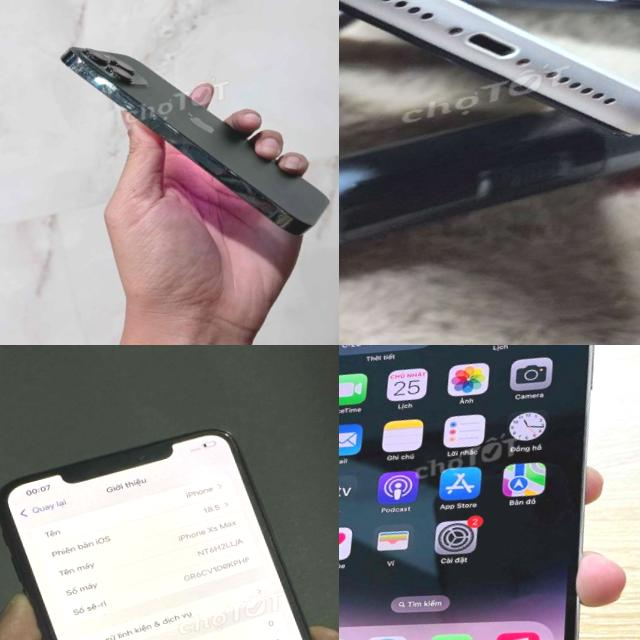gen_11: (339, 0, 640, 135)
gen_12_13: (47, 0, 339, 290)
gen_15: (339, 345, 640, 640)
gen_x_xs: (0, 394, 339, 640)
scratch: (60, 40, 152, 134)
